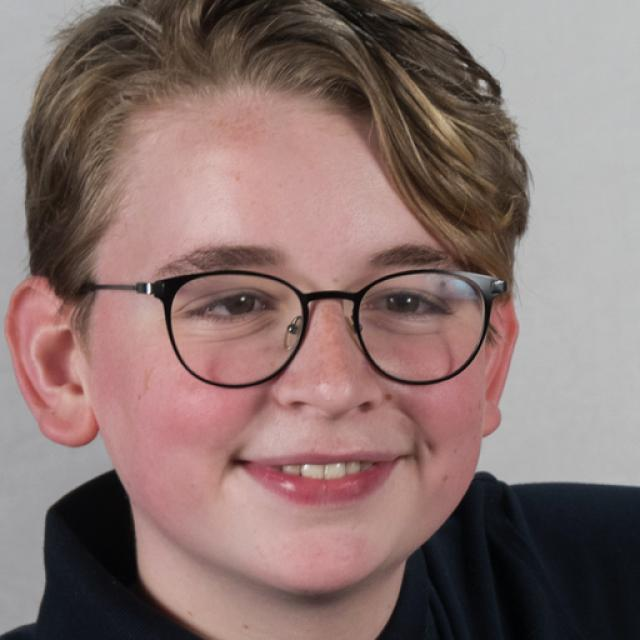happy: (110, 85, 489, 594)
